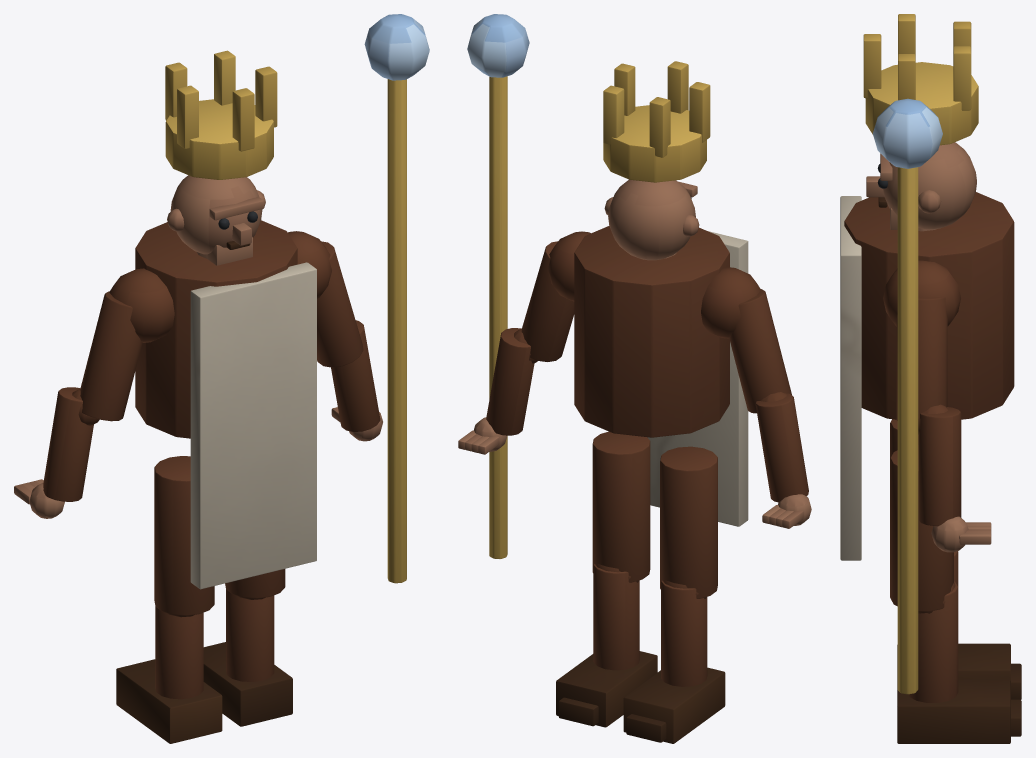
File: unit_royal_king.fbx
3 renders of one model, left to right at view 1: azimuth 30°, elevation 25°; view 2: azimuth 150°, elevation 25°; view 3: azimuth 270°, elevation 25°, orthographic. The views are drawn at different scales.
Parts seen in each view (by area): view 1: unit_royal_king; view 2: unit_royal_king; view 3: unit_royal_king.
Boxes of the visible parts, x1,y1,x2,y2 form: unit_royal_king: (14, 14, 429, 743); unit_royal_king: (458, 14, 811, 743); unit_royal_king: (840, 14, 1021, 743).
Size of the model in its own units: 1.27 by 2.17 by 0.51.
